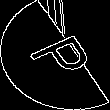P_NE: (16, 27, 94, 83)
